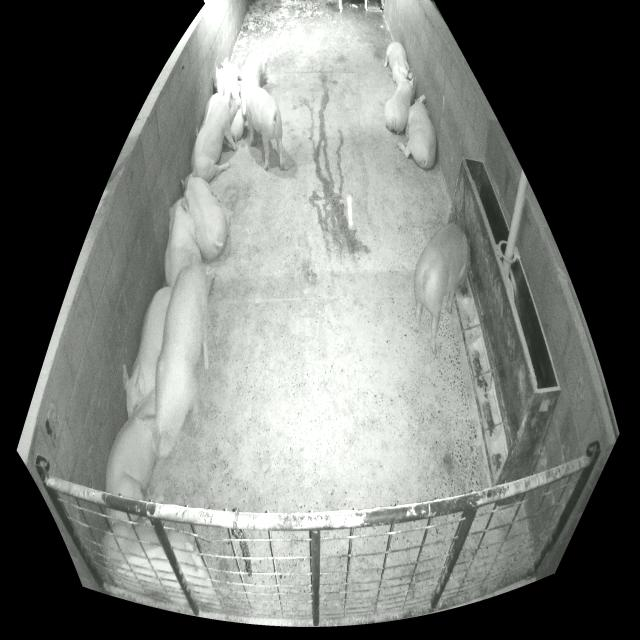pig: (156, 266, 215, 457), (102, 522, 218, 609), (414, 222, 468, 354), (124, 287, 170, 419), (106, 389, 159, 500), (190, 85, 240, 182), (181, 168, 229, 260), (164, 196, 201, 289), (246, 87, 284, 170), (397, 95, 436, 169), (216, 58, 244, 149), (385, 75, 415, 134), (239, 43, 263, 115), (384, 41, 413, 85), (196, 93, 221, 137)
